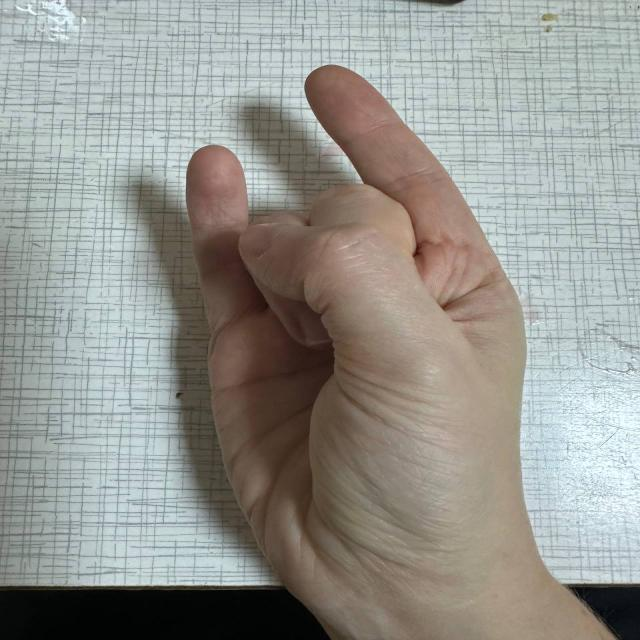y: (153, 65, 549, 555)
